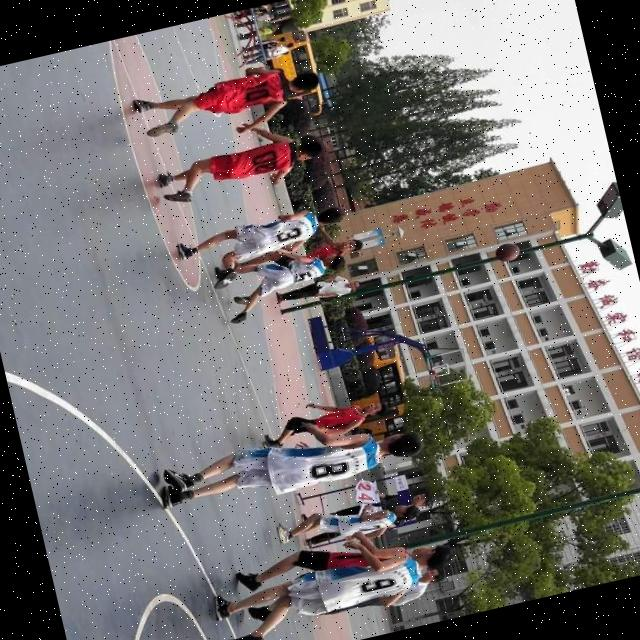ball: (492, 241, 520, 264)
